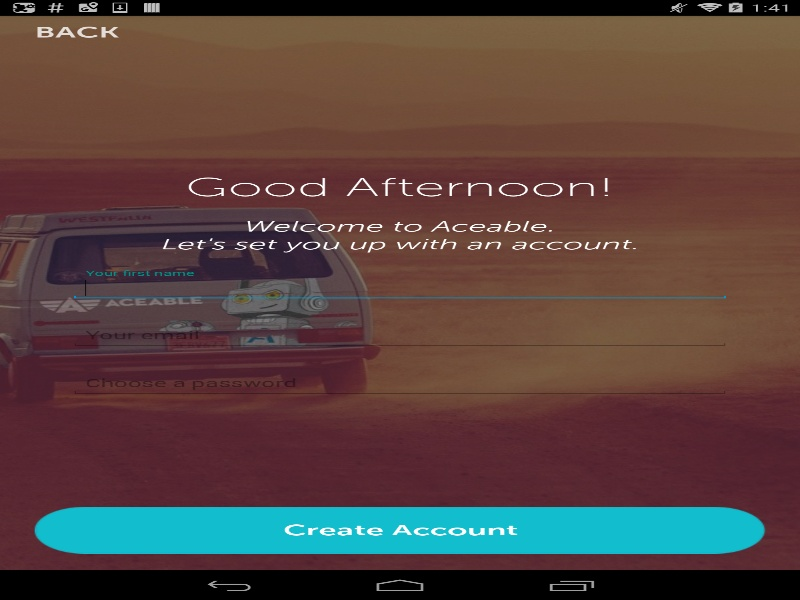Button: (34, 506, 765, 553)
Input: (69, 275, 730, 300), (69, 323, 730, 348), (69, 371, 730, 396)
